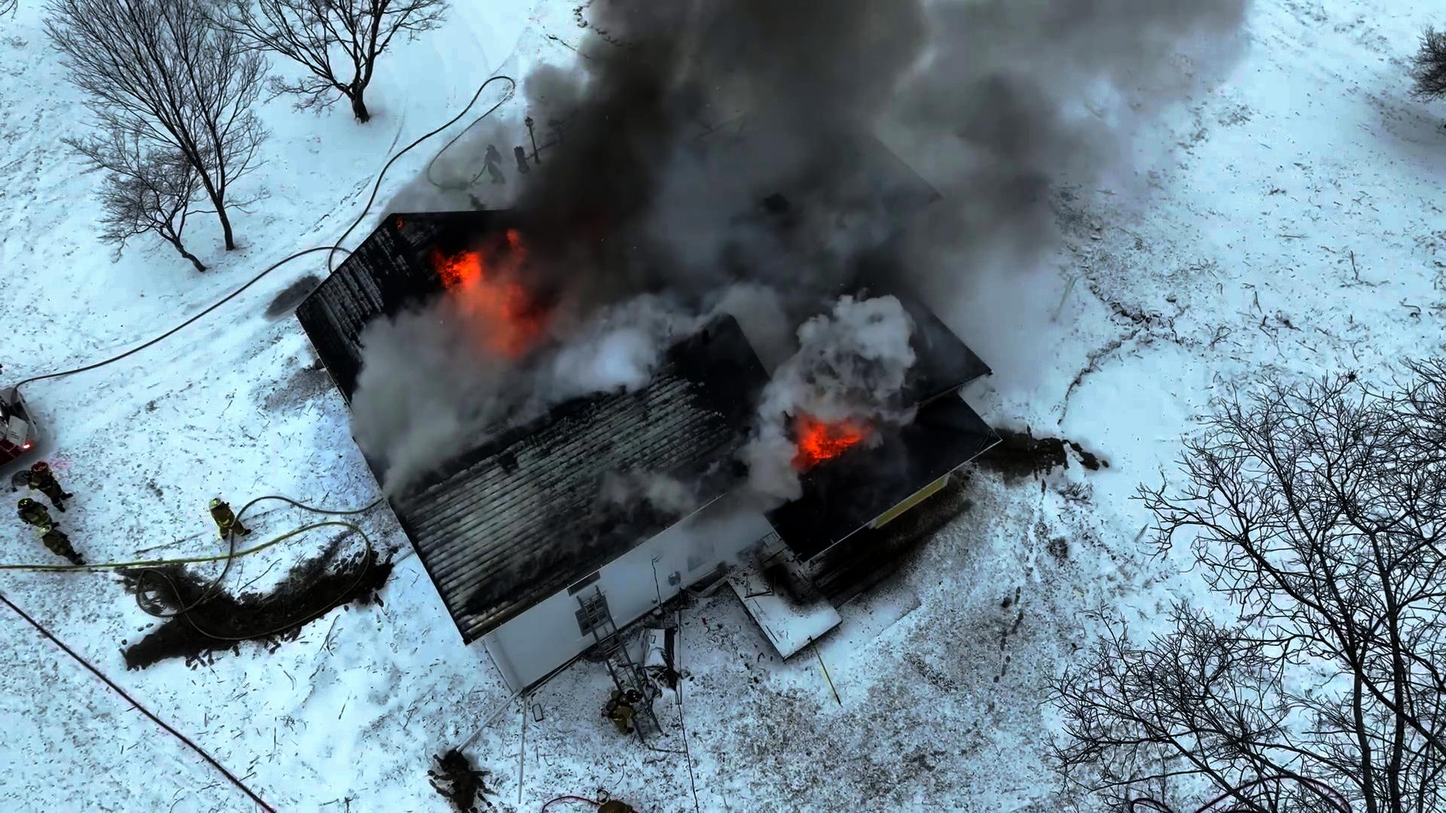fire: (426, 234, 549, 335), (810, 401, 879, 461)
smoke: (667, 34, 987, 237)
